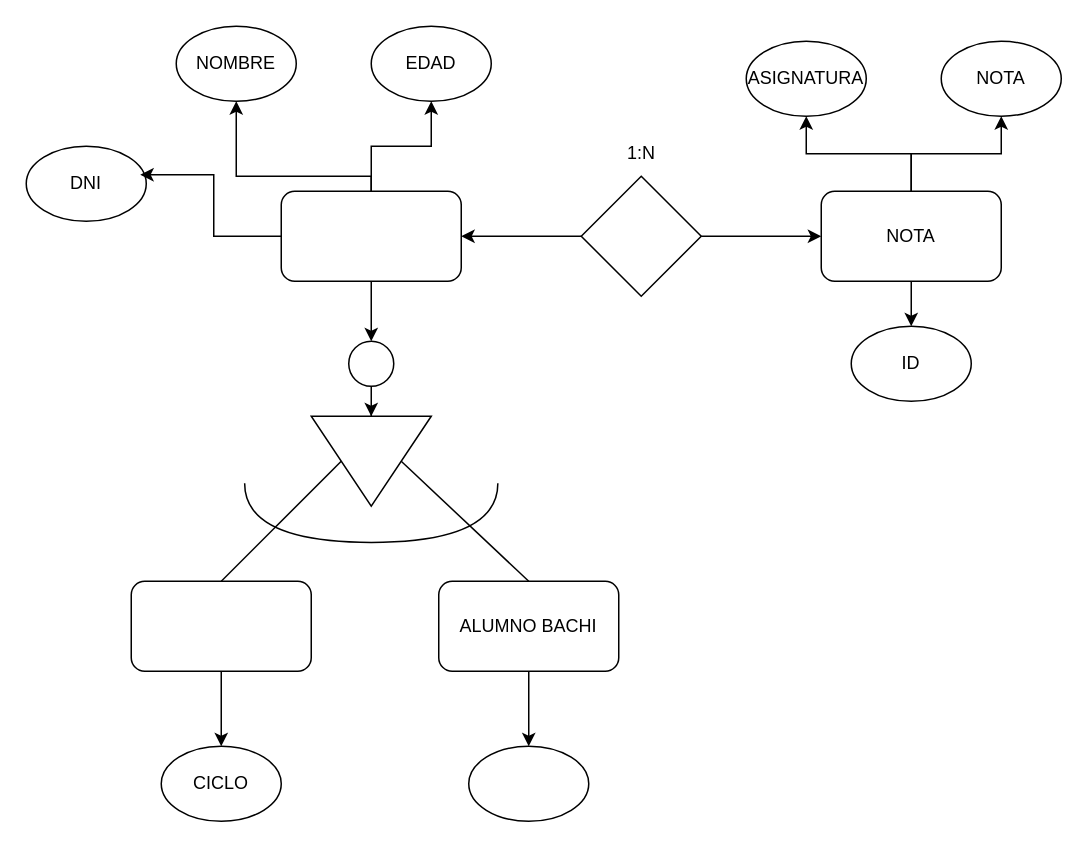
The diagram is 1088 pixels wide and 848 high, and some of its shapes have lost their labels. Here are the shapes that lost their labels. From the top down, the box of each, then its label:
(280, 190, 461, 281): ALUMNO
(580, 175, 701, 296): tiene
(130, 580, 311, 671): ALUMNO FP
(467, 745, 589, 821): MODALIDAD
